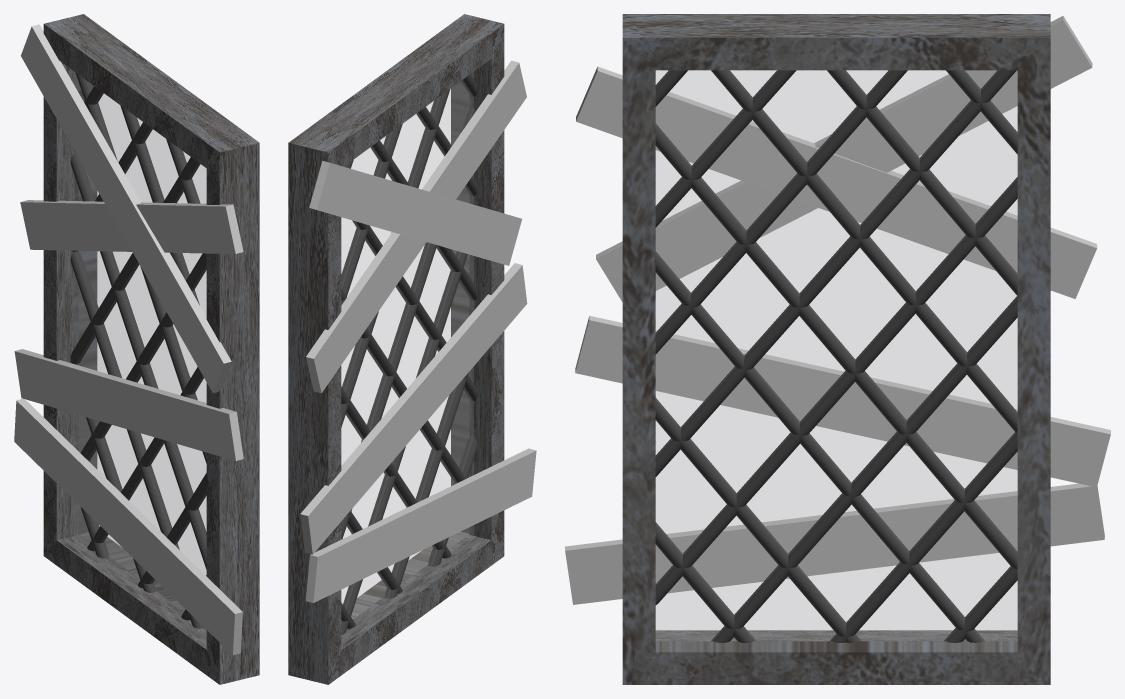
The model's file is Ventana.fbx.
3 views of the same model, side by side, from view 1: azimuth 30°, elevation 25°; view 2: azimuth 150°, elevation 25°; view 3: azimuth 270°, elevation 25° (orthographic). The views are drawn at different scales.
Visible parts, largest first — view 1: Ventana, Cubo.005, Cubo.003; view 2: Ventana, Cubo.005, Cubo.003; view 3: Ventana, Cubo.003, Cubo.005.
Boxes of the visible parts, x1,y1,x2,y2 form: Ventana: (43, 14, 259, 684); Cubo.005: (14, 24, 243, 655); Cubo.003: (75, 74, 206, 630); Ventana: (288, 14, 504, 684); Cubo.005: (300, 60, 536, 602); Cubo.003: (341, 72, 473, 621); Ventana: (622, 14, 1050, 684); Cubo.003: (656, 70, 1017, 640); Cubo.005: (565, 16, 1110, 604).
Size of the model in its own units: 142 by 1485 by 1135.
